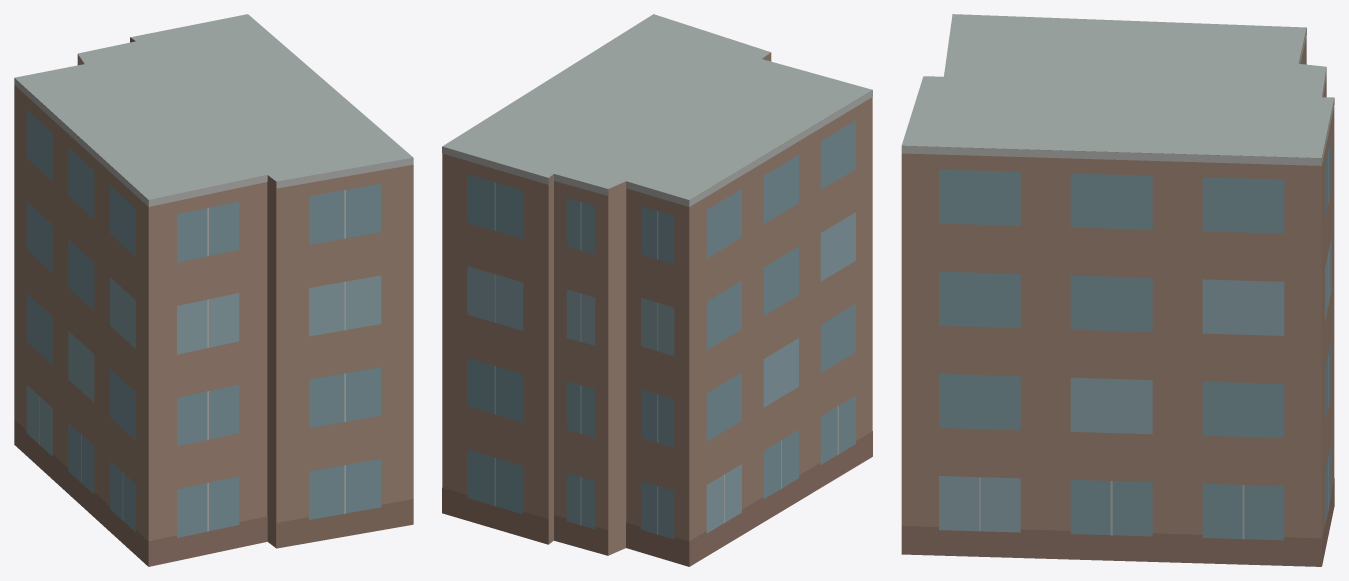
File: survey-upis-32769482.glb
3 renders of one model, left to right at view 1: azimuth 30°, elevation 25°; view 2: azimuth 150°, elevation 25°; view 3: azimuth 270°, elevation 25°, orthographic. The views are drawn at different scales.
Parts seen in each view (by area): view 1: survey-upis-32769482.tmp; view 2: survey-upis-32769482.tmp; view 3: survey-upis-32769482.tmp.
Part boxes in pixels (<box>): survey-upis-32769482.tmp: <box>14,14,413,566</box>; survey-upis-32769482.tmp: <box>442,14,872,566</box>; survey-upis-32769482.tmp: <box>901,14,1334,566</box>.
Bounding box in the file's own units: 9.69 × 12.8 × 12.3.
